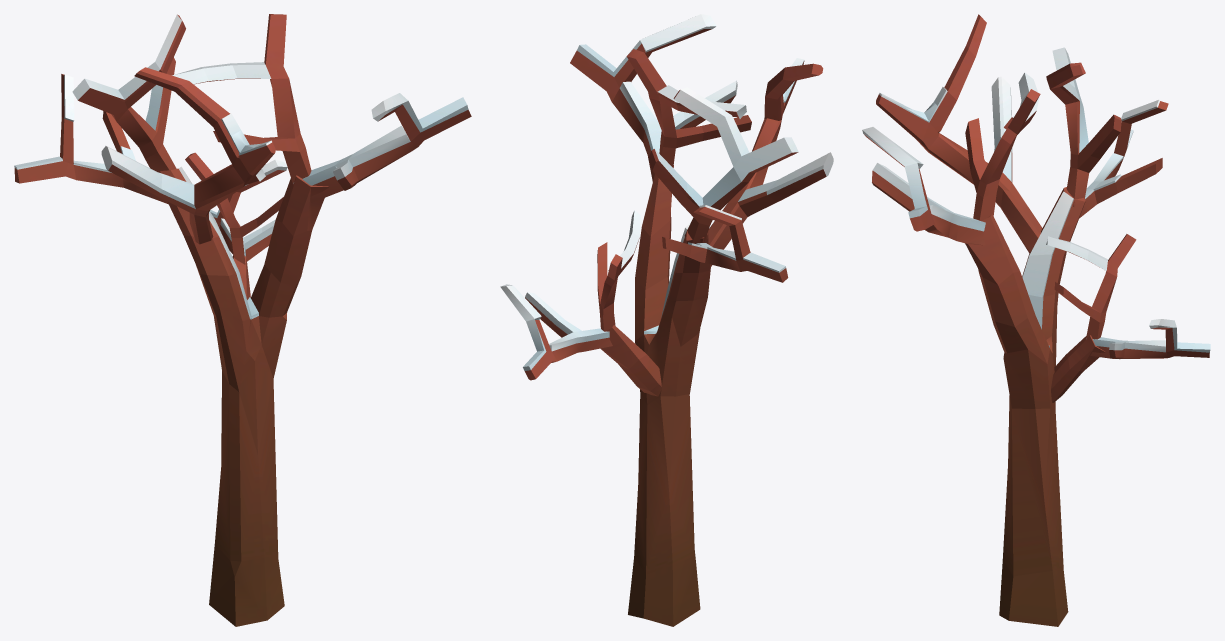
The picture shows the model from 3 angles, left to right: view 1: azimuth 30°, elevation 25°; view 2: azimuth 150°, elevation 25°; view 3: azimuth 270°, elevation 25°; orthographic projection. The views are drawn at different scales.
Visible parts, largest first — view 1: SnowyDeadTree2; view 2: SnowyDeadTree2; view 3: SnowyDeadTree2.
Part boxes in pixels (left/top/right/bottom): SnowyDeadTree2: left=14, top=14, right=471, bottom=626; SnowyDeadTree2: left=500, top=14, right=833, bottom=626; SnowyDeadTree2: left=862, top=14, right=1210, bottom=626.
Bounding box in the file's own units: 3.47 × 5.81 × 3.38.
1 material, 1 textured.
